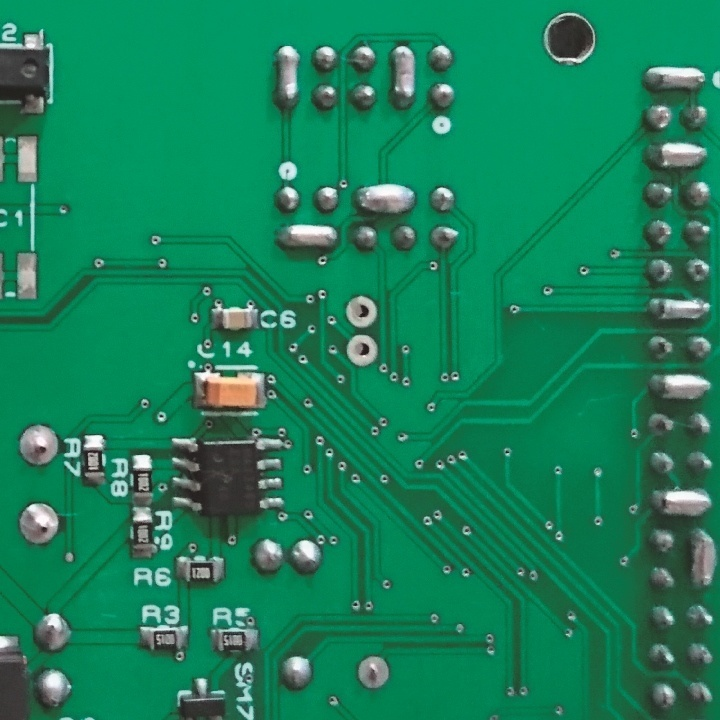F: (15, 422, 62, 469), (18, 500, 63, 549), (341, 329, 379, 369), (343, 293, 380, 329), (356, 655, 392, 692)
P: (647, 483, 714, 520), (642, 138, 714, 172), (645, 368, 716, 402), (275, 220, 341, 256), (686, 523, 718, 595), (647, 294, 713, 328), (352, 183, 418, 217), (642, 63, 707, 97), (271, 42, 301, 112), (389, 43, 419, 111)
